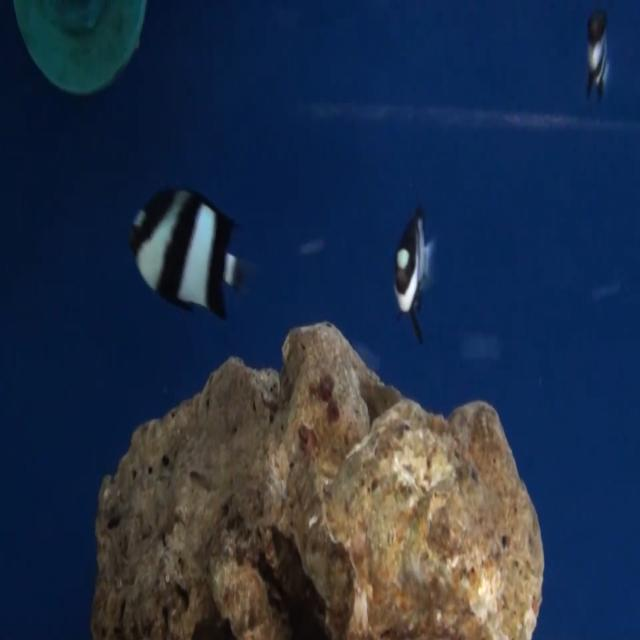ThreeStripedDamselfish: (129, 189, 242, 321), (394, 207, 435, 344)
